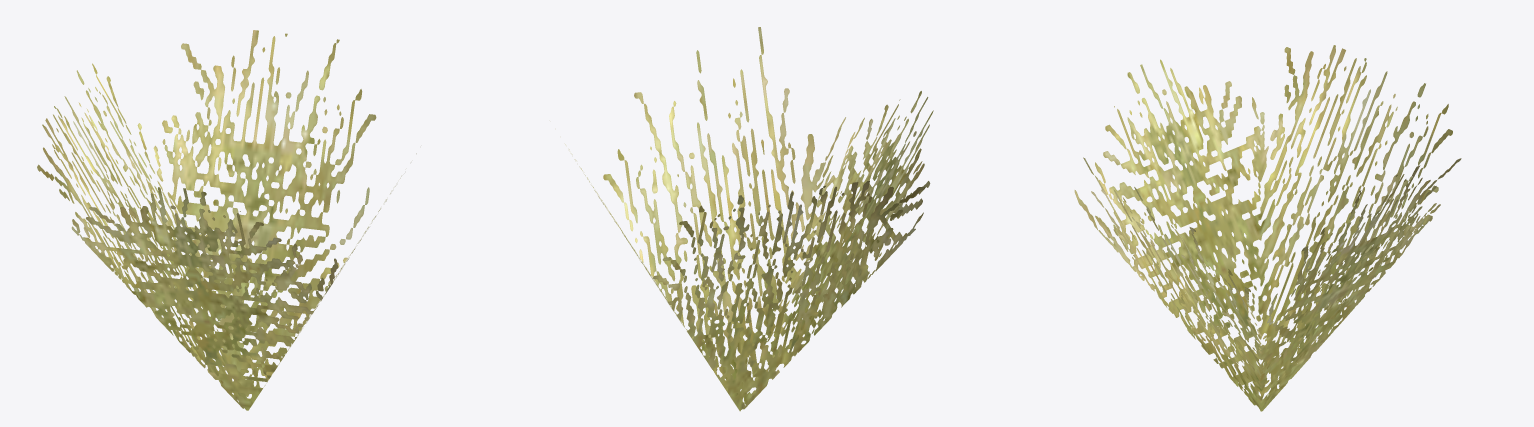
File: reed_beach_la_d.glb
The picture shows the model from 3 angles, left to right: view 1: azimuth 30°, elevation 25°; view 2: azimuth 150°, elevation 25°; view 3: azimuth 270°, elevation 25°; orthographic projection. The views are drawn at different scales.
Parts seen in each view (by area): view 1: reed_beach_la_d; view 2: reed_beach_la_d; view 3: reed_beach_la_d.
Part boxes in pixels (x1,y1,x2,y2): reed_beach_la_d: [37, 30, 416, 410]; reed_beach_la_d: [565, 27, 933, 411]; reed_beach_la_d: [1074, 45, 1461, 411].
Size of the model in its own units: 7.13 by 4.41 by 7.13.
Materials: 1 (1 with a texture image).
